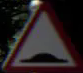Speed Breaker ahead: (6, 6, 73, 64)
